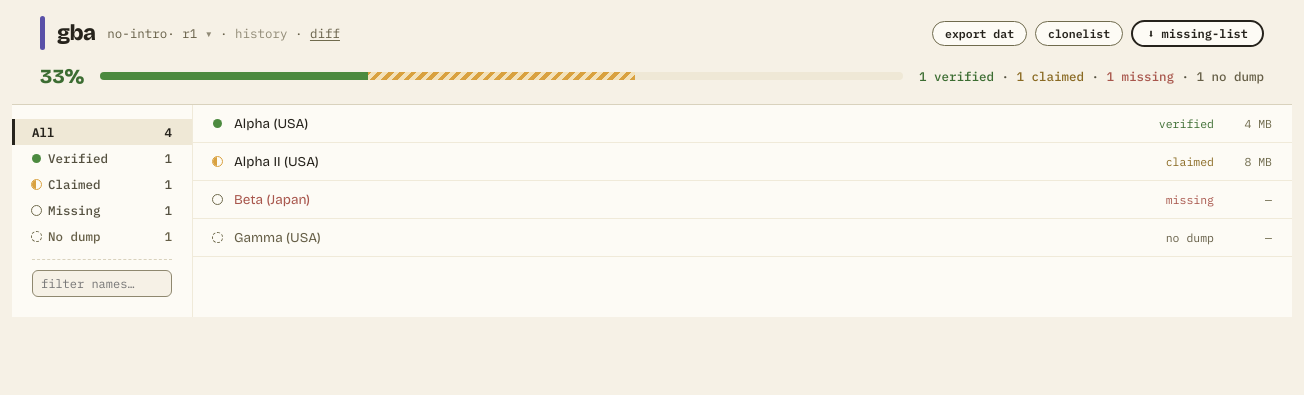
it: diff on a one-revision source reads a friendly message, not an error page
Expected: the text "Alpha (USA)" is shown, [234,115,308,132]
Click the button "diff" at (325, 33), box [310,25,340,41]
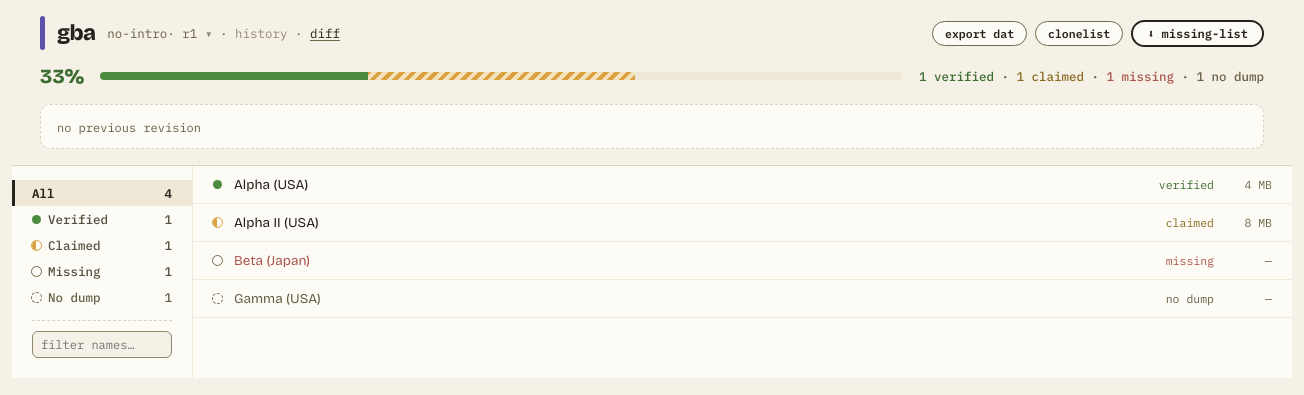
Result: the text "no previous revision" is shown at [57,120,201,135]
